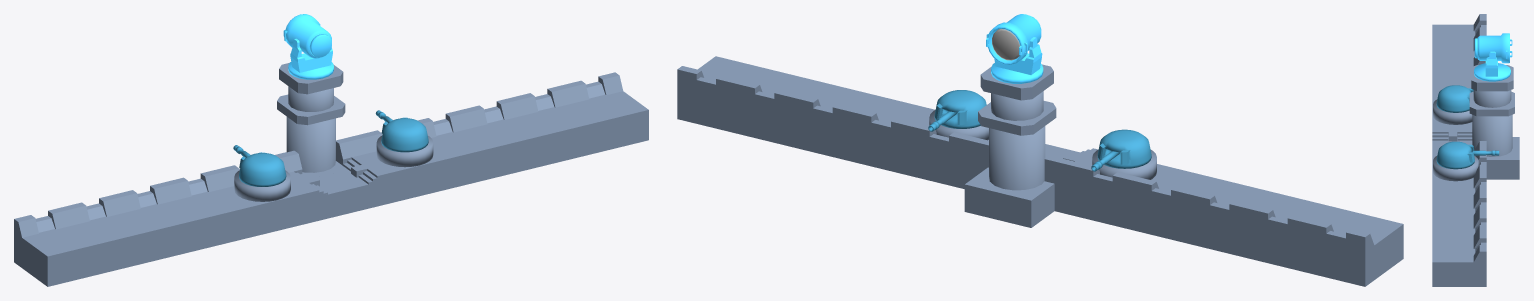
The model's file is custom_model_fortress.fbx.
3 views of the same model, side by side, from view 1: azimuth 30°, elevation 25°; view 2: azimuth 150°, elevation 25°; view 3: azimuth 270°, elevation 25° (orthographic). The views are drawn at different scales.
Visible parts, largest first — view 1: search_light_tower, search_light, pillbox_base_01, pillbox_base_02, search_light_base; view 2: search_light_tower, search_light, pillbox_base_02, pillbox_base_01, search_light_base; view 3: search_light_tower, search_light, pillbox_base_01, pillbox_base_02, search_light_base, pillbox_base_gun_01.
Boxes of the visible parts, left/top/right/bottom form: search_light_tower: left=14, top=63, right=648, bottom=286; search_light: left=283, top=14, right=331, bottom=58; pillbox_base_01: left=381, top=117, right=428, bottom=152; pillbox_base_02: left=239, top=152, right=286, bottom=186; search_light_base: left=288, top=38, right=333, bottom=79; search_light_tower: left=677, top=56, right=1403, bottom=286; search_light: left=986, top=14, right=1041, bottom=64; pillbox_base_02: left=1097, top=129, right=1151, bottom=168; pillbox_base_01: left=934, top=90, right=986, bottom=128; search_light_base: left=991, top=37, right=1043, bottom=83; search_light_tower: left=1432, top=14, right=1519, bottom=286; search_light: left=1474, top=33, right=1512, bottom=63; pillbox_base_01: left=1436, top=141, right=1474, bottom=169; pillbox_base_02: left=1436, top=85, right=1473, bottom=112; search_light_base: left=1474, top=51, right=1510, bottom=81; pillbox_base_gun_01: left=1472, top=150, right=1499, bottom=155.
Bounding box in the file's own units: 10334 × 2704 × 1604.
